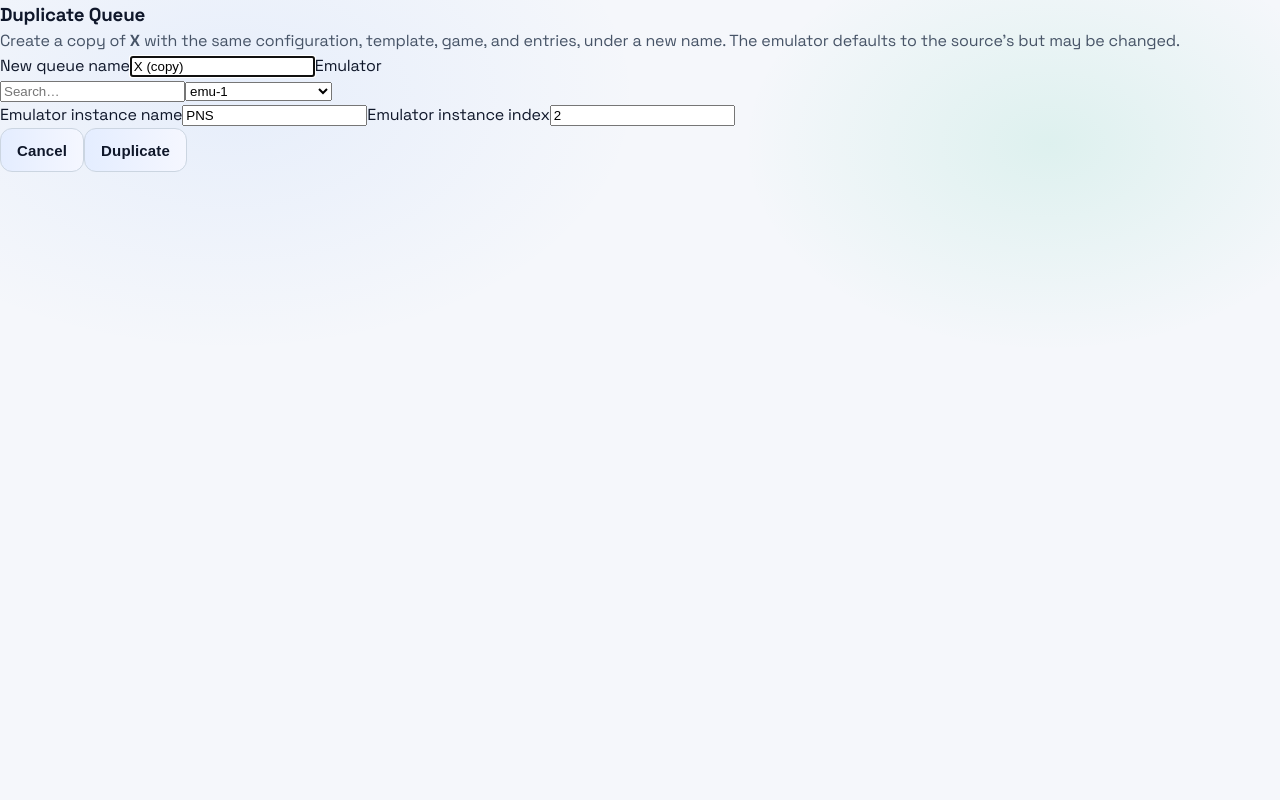
Scenario: DuplicateQueueModal › disables Duplicate when the name is set back to the source name
Replace the text in the field labelled "New queue name" with "X" at [222, 66], box [130,56,315,77]
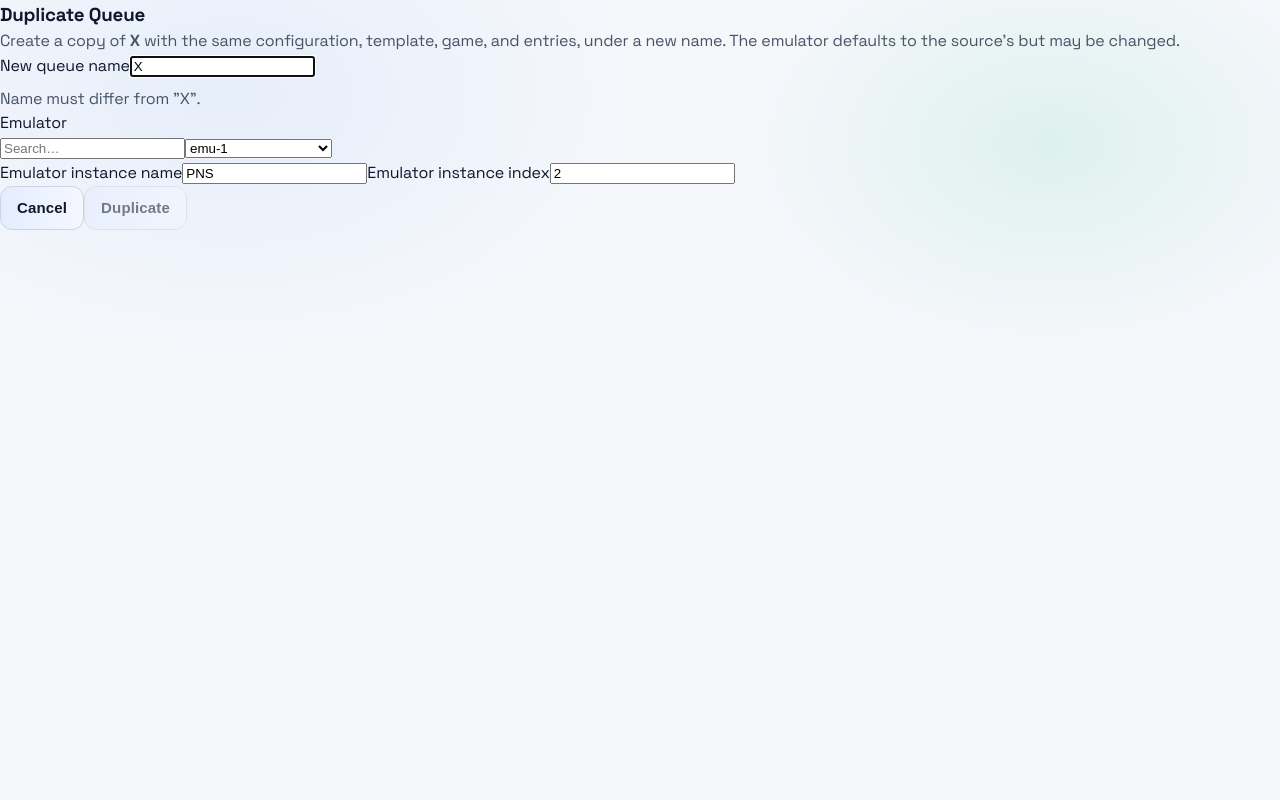
Expected: the button "Duplicate" is disabled, [84,186,187,230]
